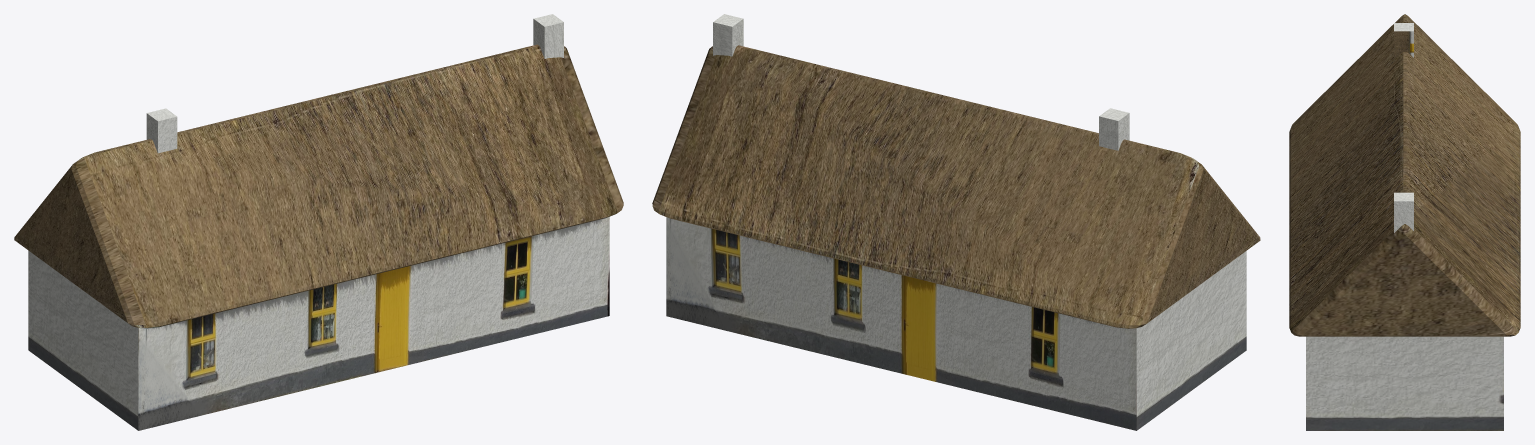
Rendered from house.glb.
3 renders of one model, left to right at view 1: azimuth 30°, elevation 25°; view 2: azimuth 150°, elevation 25°; view 3: azimuth 270°, elevation 25°, orthographic. The views are drawn at different scales.
Visible parts, largest first — view 1: Cube; view 2: Cube; view 3: Cube.
Part boxes in pixels (x1,y1,x2,y2): Cube: (14,14,623,430); Cube: (652,14,1260,430); Cube: (1289,14,1520,430).
Size of the model in its own units: 5.19 by 2.58 by 2.33.
Materials: 1 (1 with a texture image).
